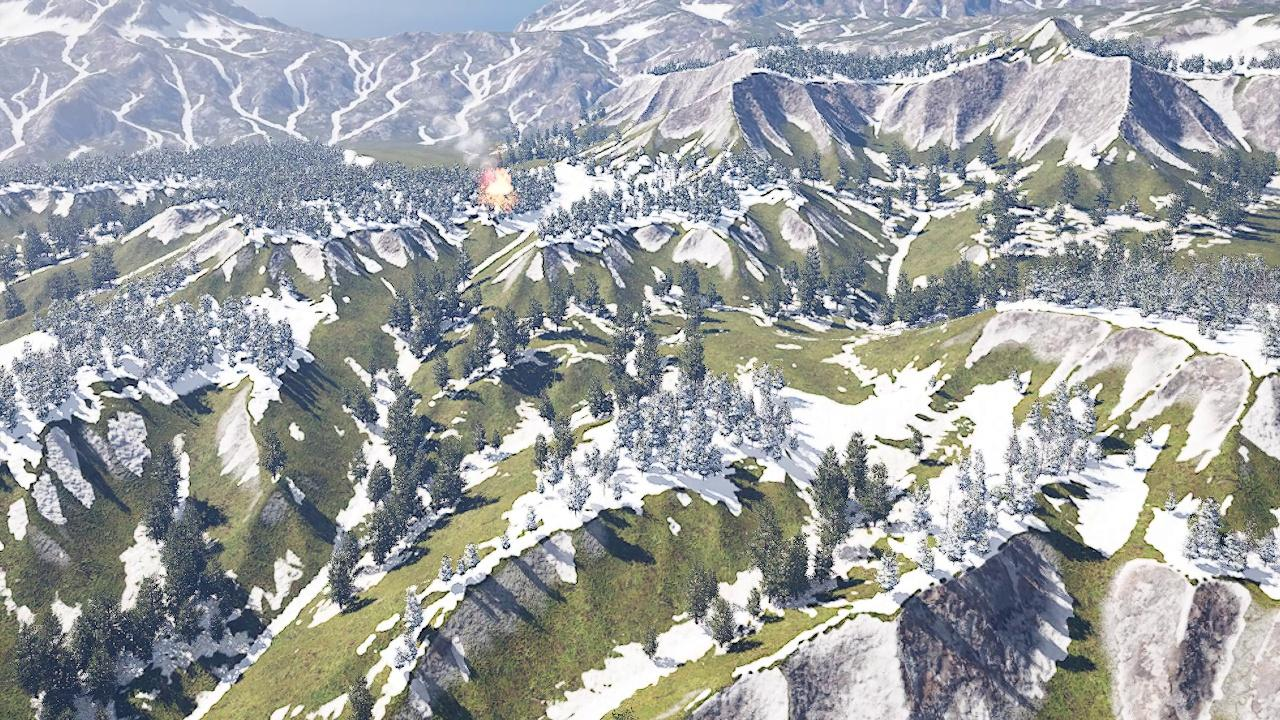fire: (483, 169, 513, 199)
smoke: (436, 108, 495, 172)
